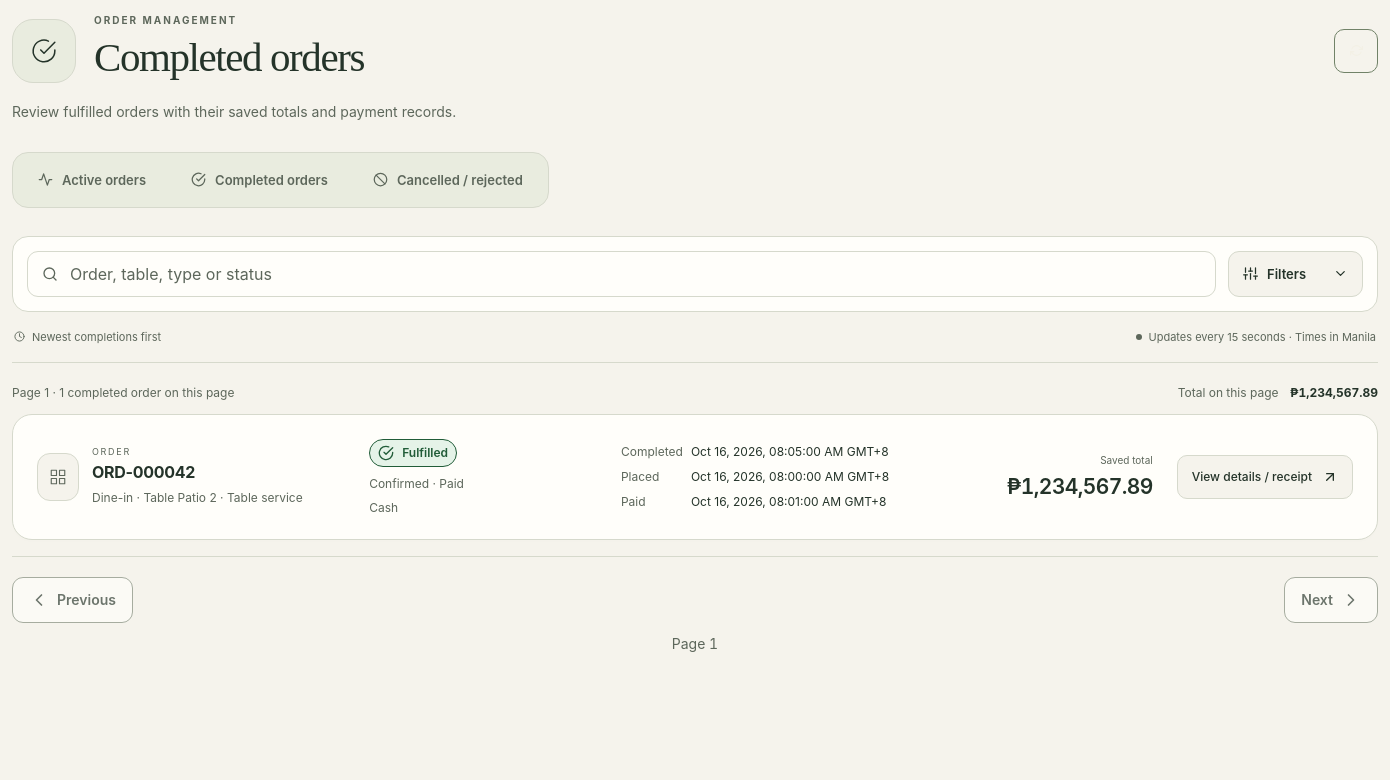
Test: hides stale history and its page total on refresh failure, then recovers
Expected: the heading "ORD-000042" is shown, [92,462,195,482]
Click the button named "Refresh" at (1356, 51), box [1334,29,1378,73]
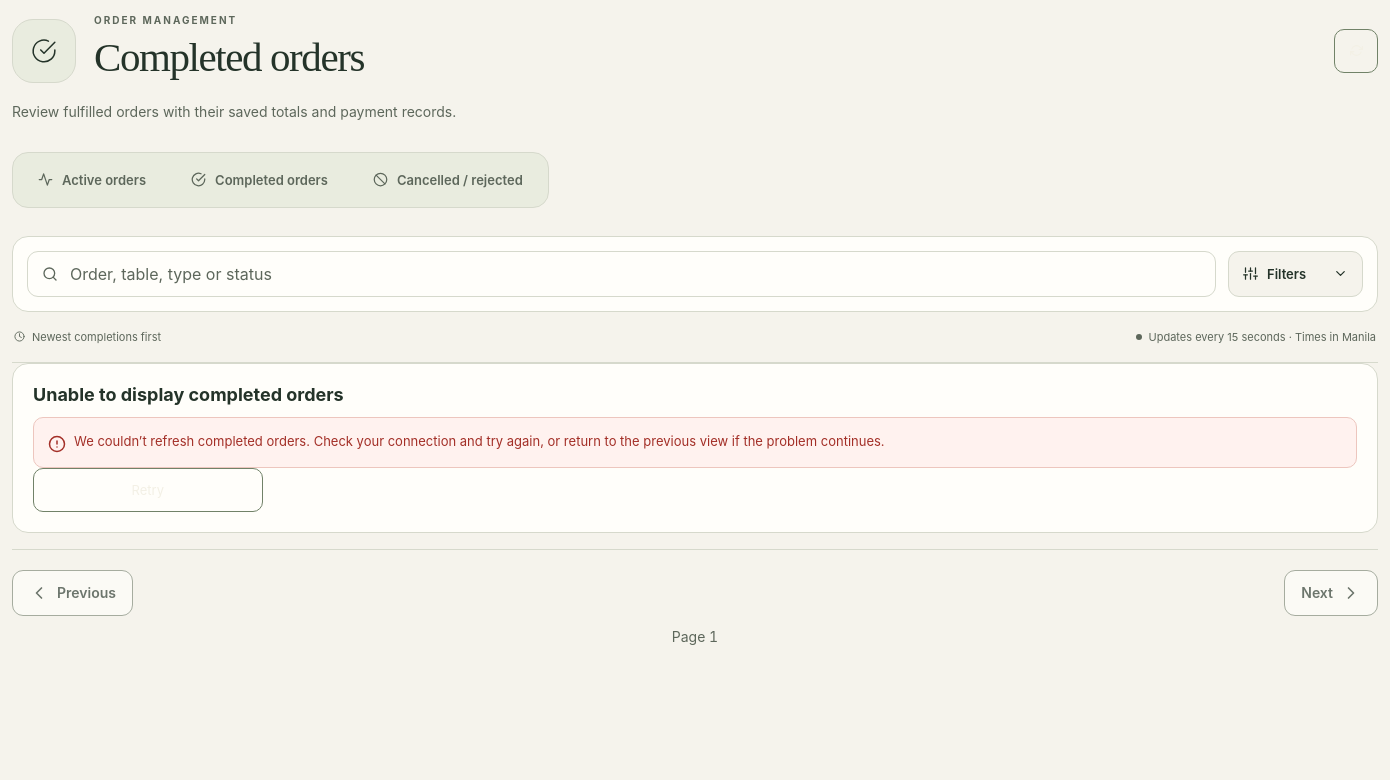
Expected: the 1st message is shown, [33,417,1357,468]
Expected: the heading "ORD-000042" is gone
Expected: the text "Total on this page" is gone
Click the button "Retry" at (148, 490), box [33,468,262,512]
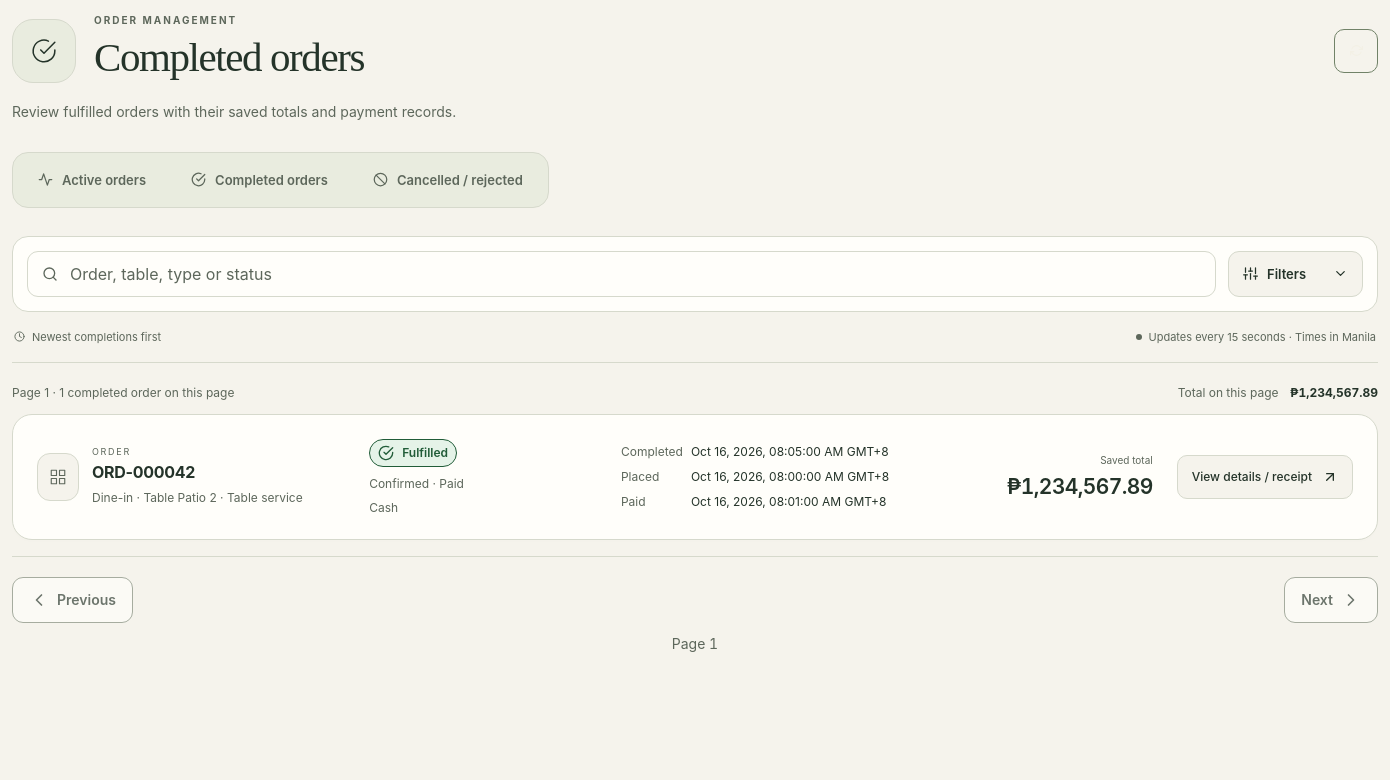
Expected: the heading "ORD-000042" is shown, [92,462,195,482]
